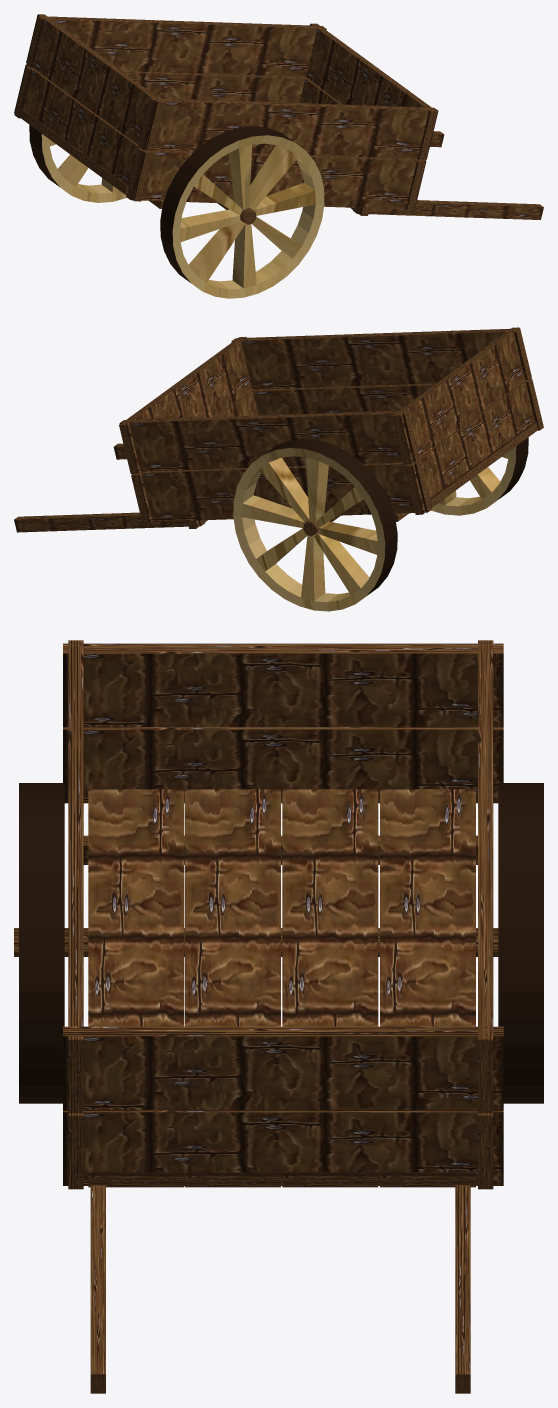
File: Medieval Hand Cart.fbx
3 renders of one model, top to bottom at view 1: azimuth 30°, elevation 25°; view 2: azimuth 150°, elevation 25°; view 3: azimuth 270°, elevation 25°, orthographic. The views are drawn at different scales.
Parts seen in each view (by area): view 1: Cube.005; view 2: Cube.005; view 3: Cube.005.
Part boxes in pixels (x1=…): Cube.005: x1=14, y1=14, x2=543, y2=298; Cube.005: x1=14, y1=327, x2=543, y2=611; Cube.005: x1=14, y1=640, x2=543, y2=1393.
Bounding box in the file's own units: 353 × 176 × 211.
